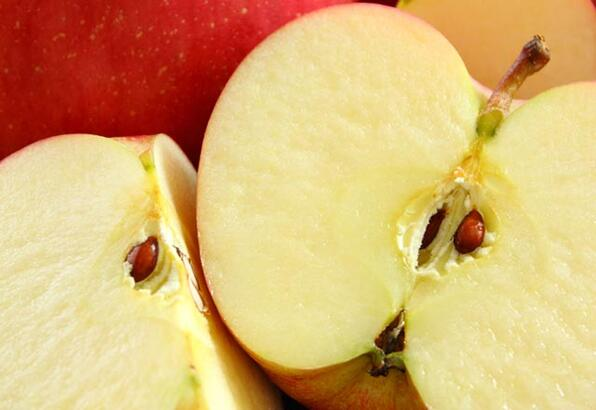apple: (8, 10, 593, 410)
